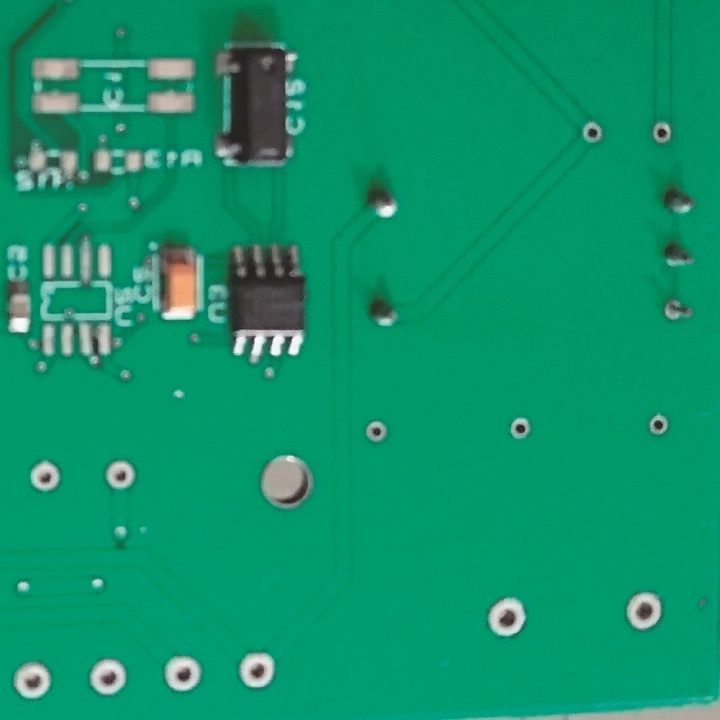F: (237, 646, 281, 695), (87, 654, 131, 702), (484, 597, 532, 640), (10, 658, 58, 700), (622, 588, 666, 631), (101, 459, 143, 503), (161, 651, 199, 696), (25, 460, 65, 496), (662, 297, 696, 325), (645, 412, 673, 438), (364, 417, 389, 446), (650, 121, 676, 146), (508, 415, 532, 442), (581, 120, 607, 144)
